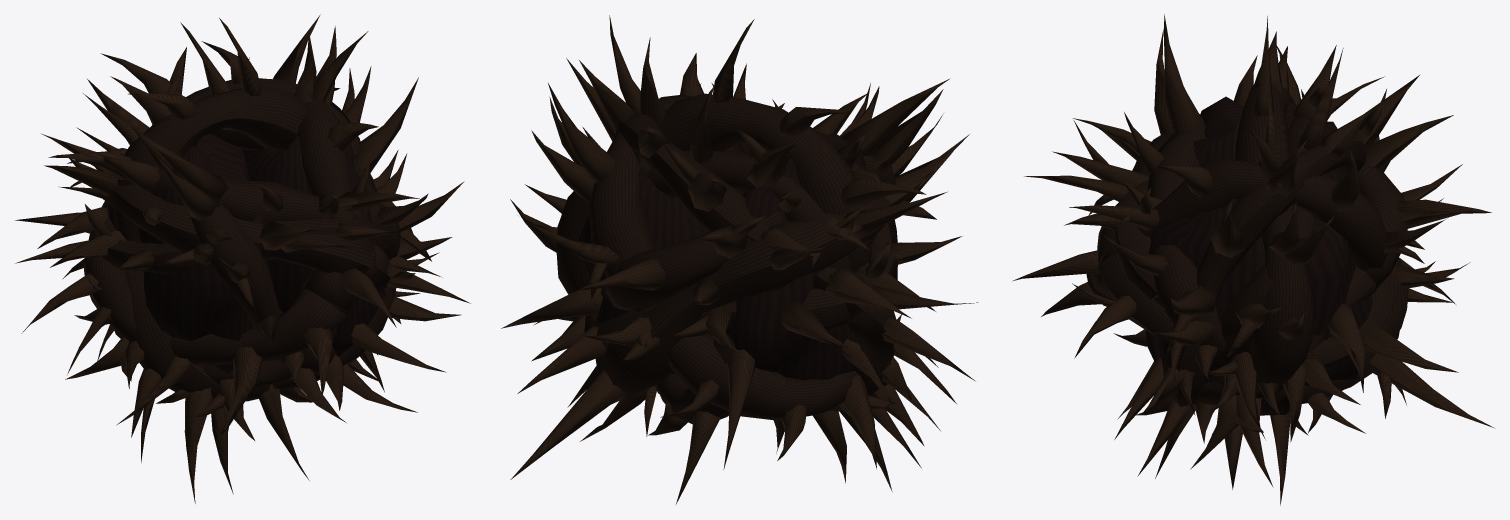
Rendered from Thorn_C_SplitCrown_Detail1.fbx.
3 renders of one model, left to right at view 1: azimuth 30°, elevation 25°; view 2: azimuth 150°, elevation 25°; view 3: azimuth 270°, elevation 25°, orthographic. The views are drawn at different scales.
Visible parts, largest first — view 1: ThornSurface; view 2: ThornSurface; view 3: ThornSurface.
Part boxes in pixels (x1,y1,x2,y2): ThornSurface: (15, 14, 470, 503); ThornSurface: (501, 15, 978, 504); ThornSurface: (1012, 14, 1494, 505).
Size of the model in its own units: 271 by 281 by 275.
